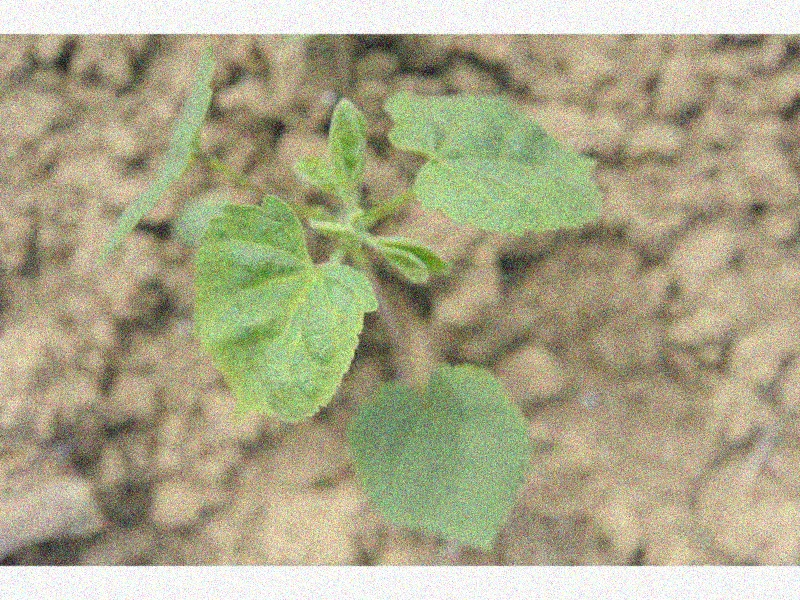velvet: (97, 46, 606, 546)
